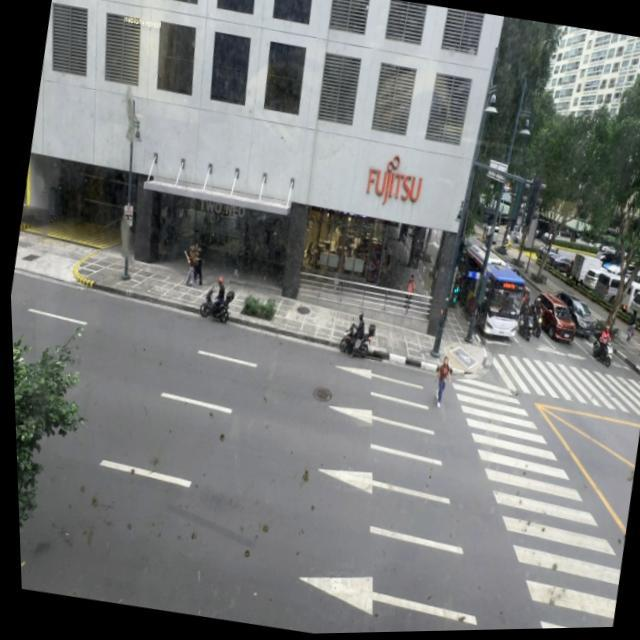jaywalking: (429, 355, 455, 410)
